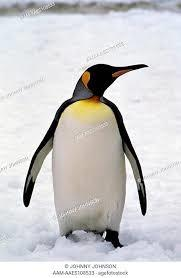king: (14, 47, 181, 249)
